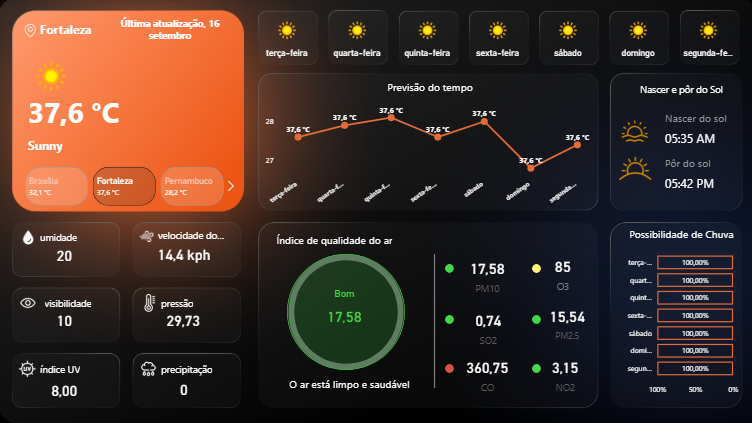

This screenshot's page, from the dashboard's own definition file:
{"tool":"powerbi","page":{"name":"Página 1","canvas":[1280,720],"ordinal":0},"visuals":[{"type":"advancedSlicerVisual","fields":{"Values":["Locations.location.name"]},"box":[21.8,278.9,386.4,75.6],"z":0},{"type":"shape","box":[52.1,154.5,223.4,73.9],"z":1000},{"type":"shape","box":[50.4,228.4,344.4,37],"z":2000},{"type":"shape","box":[72.2,26.9,159.6,50.4],"z":3000},{"type":"shape","box":[173,26.9,235.2,50.4],"z":4000},{"type":"image","box":[21.8,38.6,68.9,31.9],"z":5000},{"type":"cardVisual","fields":{"Data":["Min(Atual.current.condition.icon)"]},"box":[20.2,70.5,132.7,112.5],"z":6000},{"type":"image","box":[31.9,384.7,40.3,35.3],"z":7000},{"type":"image","box":[231.8,383,38.6,35.3],"z":8000},{"type":"image","box":[26.9,492.2,50.4,40.3],"z":9000},{"type":"image","box":[233.5,492.2,45.4,40.3],"z":10000},{"type":"image","box":[26.9,603,47,40.3],"z":11000},{"type":"image","box":[233.5,603,42,40.3],"z":12000},{"type":"shape","box":[72.2,381.3,137.7,40.3],"z":13000},{"type":"shape","box":[270.4,377.9,137.7,40.3],"z":14000},{"type":"shape","box":[50.4,492.2,137.7,40.3],"z":15000},{"type":"shape","box":[275.5,492.2,137.7,40.3],"z":16000},{"type":"shape","box":[72.2,603,137.7,40.3],"z":17000},{"type":"shape","box":[275.5,603,137.7,40.3],"z":18000},{"type":"cardVisual","fields":{"Data":["Median(Atual.current.humidity)"]},"box":[31.9,364.5,162.9,129.3],"z":19000},{"type":"cardVisual","fields":{"Data":["_medidas.wind_Speed"]},"box":[233.5,362.8,161.3,129.3],"z":20000},{"type":"cardVisual","fields":{"Data":["Median(Atual.current.pressure_in)"]},"box":[231.8,473.7,162.9,129.3],"z":21000},{"type":"cardVisual","fields":{"Data":["Median(Atual.current.vis_km)"]},"box":[31.9,473.7,162.9,129.3],"z":22000},{"type":"cardVisual","fields":{"Data":["Avg(Atual.current.uv)"]},"box":[31.9,591.3,162.9,129.3],"z":23000},{"type":"cardVisual","fields":{"Data":["Sum(Atual.current.precip_in)"]},"box":[233.5,589.6,161.3,129.3],"z":24000},{"type":"advancedSlicerVisual","fields":{"Values":["previsão_day.day_Name"]},"box":[426.7,21.8,829.8,97.4],"z":25000},{"type":"lineChart","title":"Previsão do tempo","fields":{"Y":["Avg(previsão_day.forecast.forecastday.day.avgtemp_c)"],"Category":["previsão_day.day_Name"]},"box":[443.5,137.7,567.8,216.7],"z":26000},{"type":"shape","box":[1058.3,137.7,183.1,31.9],"z":27000},{"type":"shape","box":[1122.1,203.2,157.9,62.1],"z":28000},{"type":"shape","box":[1122.1,278.9,157.9,62.1],"z":29000},{"type":"shape","box":[1122.1,169.7,157.9,62.1],"z":30000},{"type":"shape","box":[1122.1,245.2,157.9,62.1],"z":31000},{"type":"image","box":[1011.2,196.5,120.9,53.8],"z":32000},{"type":"image","box":[1006.2,245.2,131,82.3],"z":33000},{"type":"hundredPercentStackedBarChart","title":"Possibilidade de Chuva","fields":{"Y":["Atual.left_value_rain","Sum(previsão_day.forecast.forecastday.day.daily_chance_of_rain)"],"Category":["previsão_day.day_Name"]},"box":[1043.2,384.7,213.3,290.6],"z":34000},{"type":"shape","box":[456.9,389.7,220.1,31.9],"z":35000},{"type":"cardVisual","fields":{"Data":["Avg(Atual.current.air_quality.o3)"]},"box":[910.5,421.6,80.6,90.7],"z":36000},{"type":"cardVisual","fields":{"Data":["Avg(Atual.current.air_quality.pm2_5)"]},"box":[910.5,505.6,95.8,84],"z":37000},{"type":"cardVisual","fields":{"Data":["Avg(Atual.current.air_quality.no2)"]},"box":[907.1,591.3,95.8,84],"z":38000},{"type":"cardVisual","fields":{"Data":["Avg(Atual.current.air_quality.pm10)"]},"box":[772.7,425,102.5,82.3],"z":39000},{"type":"cardVisual","fields":{"Data":["Avg(Atual.current.air_quality.co)"]},"box":[740.8,591.3,166.3,80.6],"z":40000},{"type":"cardVisual","fields":{"Data":["Avg(Atual.current.air_quality.so2)"]},"box":[772.7,512.3,105.8,87.3],"z":41000},{"type":"shape","box":[752.5,446.8,15,15],"z":42000},{"type":"shape","box":[752.5,532.5,15.1,15.1],"z":43000},{"type":"shape","box":[752.5,614.8,15.1,15.1],"z":44000},{"type":"shape","box":[898.7,446.8,15.1,15.1],"z":45000},{"type":"shape","box":[898.7,532.5,15.1,15.1],"z":46000},{"type":"shape","box":[898.7,614.8,15.1,15.1],"z":47000},{"type":"shape","box":[729,430,11.8,225.1],"z":48000},{"type":"cardVisual","fields":{"Data":["Avg(Atual.current.air_quality.pm10)"]},"box":[527.5,485.5,112.5,82.3],"z":49000},{"type":"donutChart","fields":{"Y":["_medidas.left_value_PM10","Sum(Atual.current.air_quality.pm10)"]},"box":[443.5,401.5,285.6,252],"z":50000},{"type":"shape","box":[487.1,430,198.2,194.9],"z":51000},{"type":"shape","box":[456.9,624.9,270.4,47],"z":52000}]}

Visuals, with their boxes in screenshot pixels (x1, y1, x2, y2), scaled from the page's 1280x720 canvas onto the 752x423 screenshot:
advancedSlicerVisual - Locations.location.name: region(13, 164, 240, 208)
shape: region(31, 91, 162, 134)
shape: region(30, 134, 232, 156)
shape: region(42, 16, 136, 45)
shape: region(102, 16, 240, 45)
image: region(13, 23, 53, 41)
cardVisual - Min(Atual.current.condition.icon): region(12, 41, 90, 108)
image: region(19, 226, 42, 247)
image: region(136, 225, 159, 246)
image: region(16, 289, 45, 313)
image: region(137, 289, 164, 313)
image: region(16, 354, 43, 378)
image: region(137, 354, 162, 378)
shape: region(42, 224, 123, 248)
shape: region(159, 222, 240, 246)
shape: region(30, 289, 111, 313)
shape: region(162, 289, 243, 313)
shape: region(42, 354, 123, 378)
shape: region(162, 354, 243, 378)
cardVisual - Median(Atual.current.humidity): region(19, 214, 114, 290)
cardVisual - _medidas.wind_Speed: region(137, 213, 232, 289)
cardVisual - Median(Atual.current.pressure_in): region(136, 278, 232, 354)
cardVisual - Median(Atual.current.vis_km): region(19, 278, 114, 354)
cardVisual - Avg(Atual.current.uv): region(19, 347, 114, 422)
cardVisual - Sum(Atual.current.precip_in): region(137, 346, 232, 422)
advancedSlicerVisual - previsão_day.day_Name: region(251, 13, 738, 70)
"Previsão do tempo" lineChart: region(261, 81, 594, 208)
shape: region(622, 81, 729, 100)
shape: region(659, 119, 751, 156)
shape: region(659, 164, 751, 200)
shape: region(659, 100, 751, 136)
shape: region(659, 144, 751, 181)
image: region(594, 115, 665, 147)
image: region(591, 144, 668, 192)
"Possibilidade de Chuva" hundredPercentStackedBarChart: region(613, 226, 738, 397)
shape: region(268, 229, 398, 248)
cardVisual - Avg(Atual.current.air_quality.o3): region(535, 248, 582, 301)
cardVisual - Avg(Atual.current.air_quality.pm2_5): region(535, 297, 591, 346)
cardVisual - Avg(Atual.current.air_quality.no2): region(533, 347, 589, 397)
cardVisual - Avg(Atual.current.air_quality.pm10): region(454, 250, 514, 298)
cardVisual - Avg(Atual.current.air_quality.co): region(435, 347, 533, 395)
cardVisual - Avg(Atual.current.air_quality.so2): region(454, 301, 516, 352)
shape: region(442, 262, 451, 271)
shape: region(442, 313, 451, 322)
shape: region(442, 361, 451, 370)
shape: region(528, 262, 537, 271)
shape: region(528, 313, 537, 322)
shape: region(528, 361, 537, 370)
shape: region(428, 253, 435, 385)
cardVisual - Avg(Atual.current.air_quality.pm10): region(310, 285, 376, 334)
donutChart - _medidas.left_value_PM10 x Sum(Atual.current.air_quality.pm10): region(261, 236, 428, 384)
shape: region(286, 253, 403, 367)
shape: region(268, 367, 427, 395)
